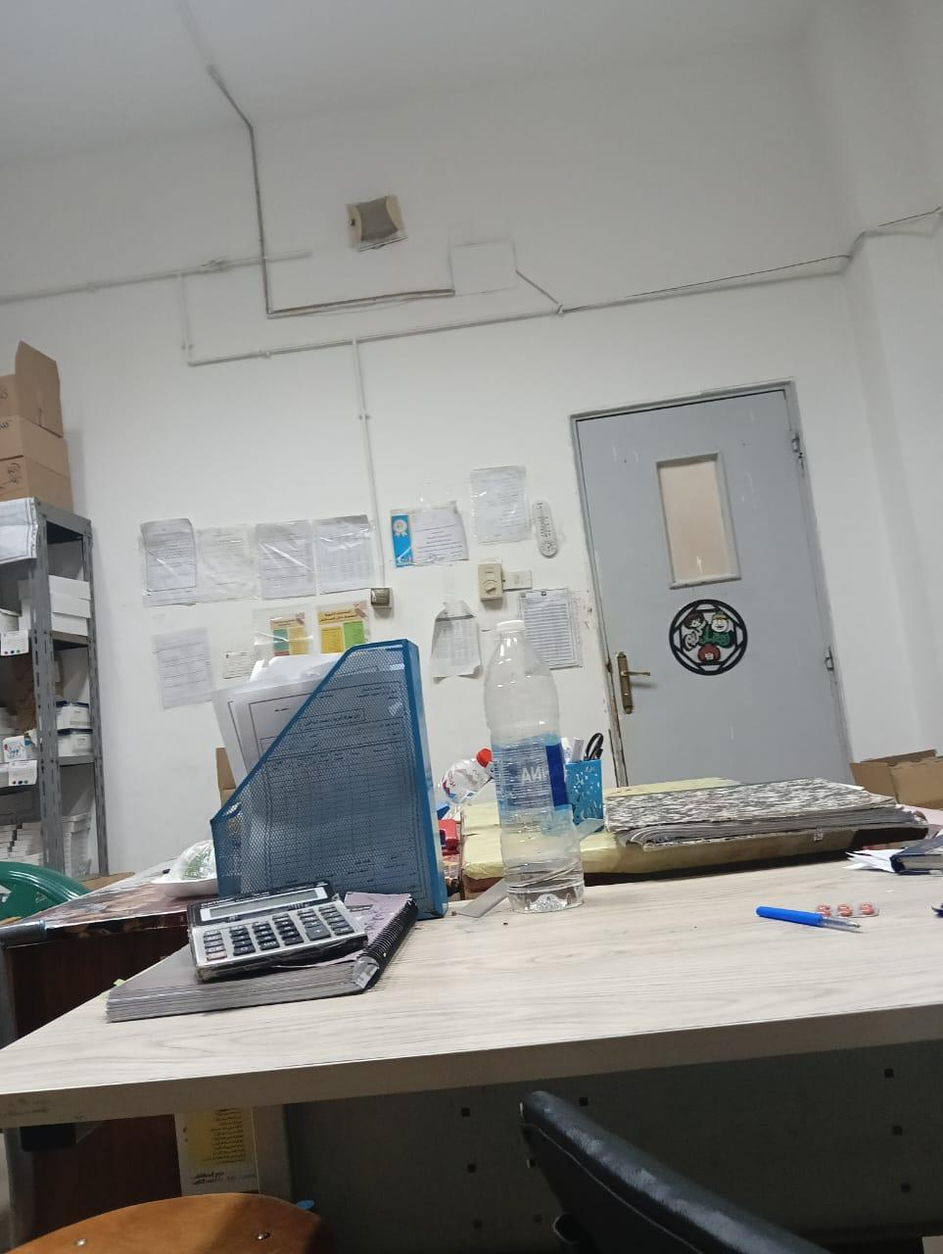Bottle: (485, 620, 583, 911), (440, 748, 491, 806)
